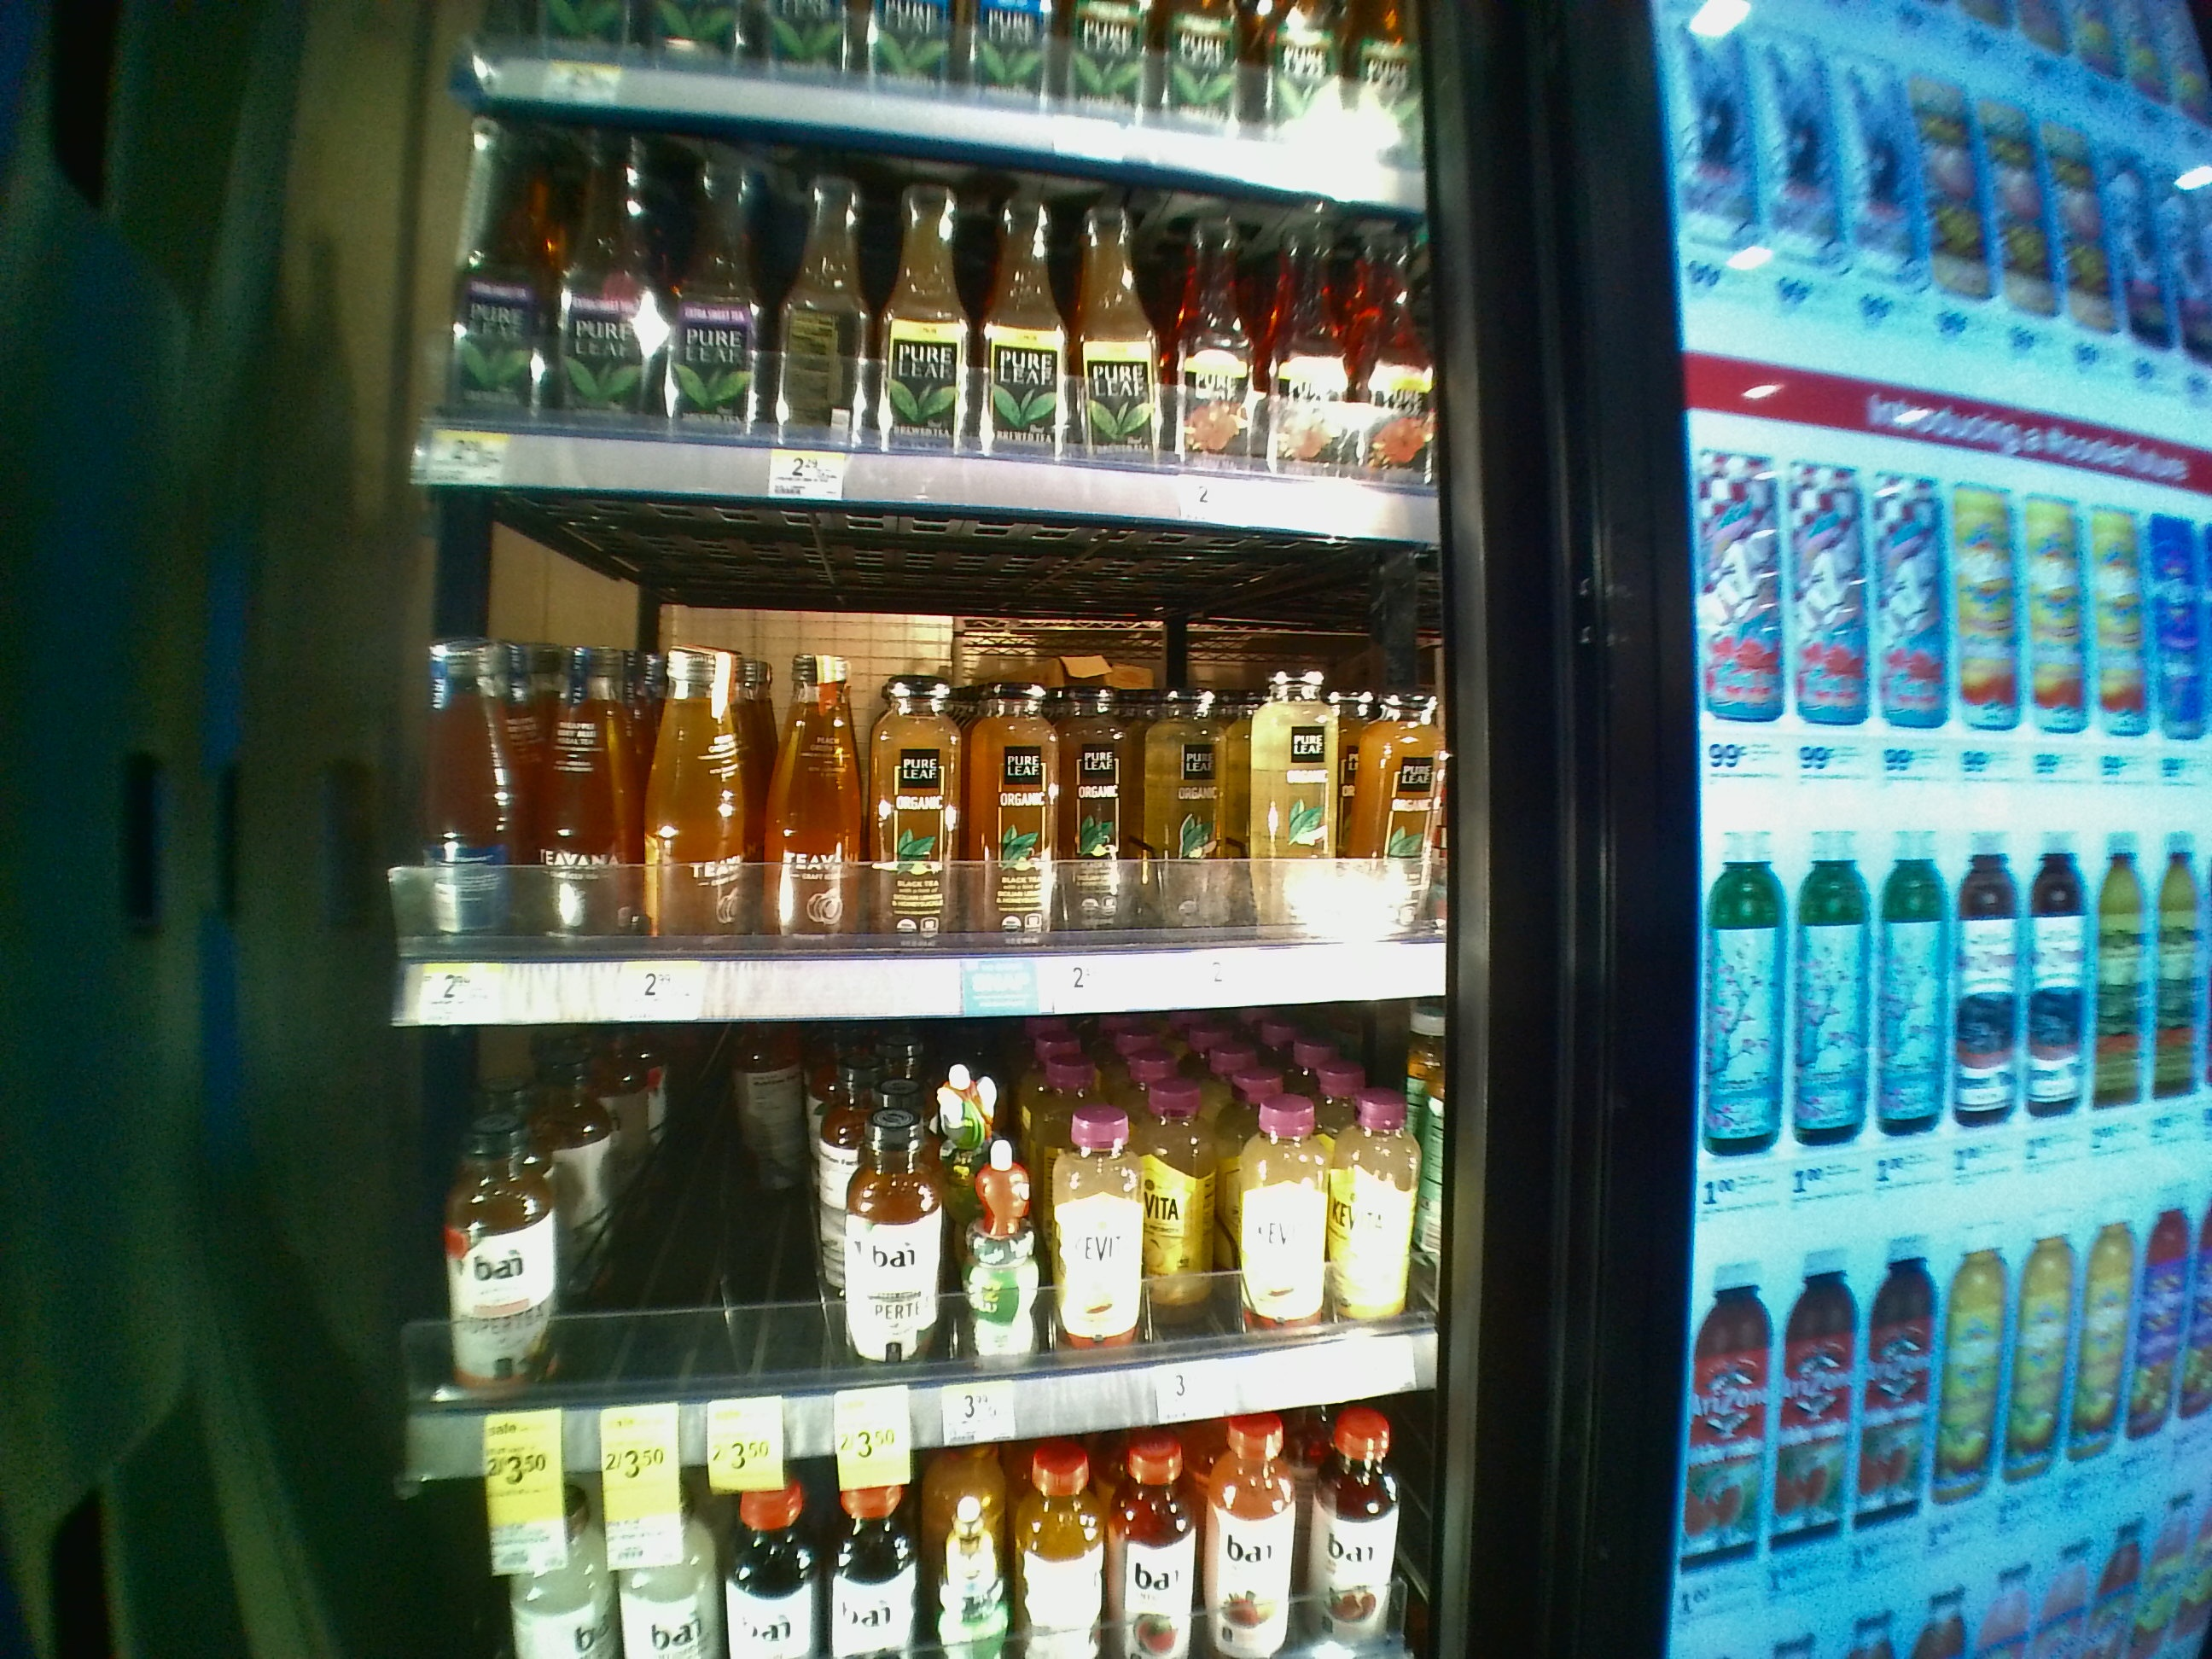shelf: (387, 502, 1453, 1023), (401, 1037, 1447, 1486)
